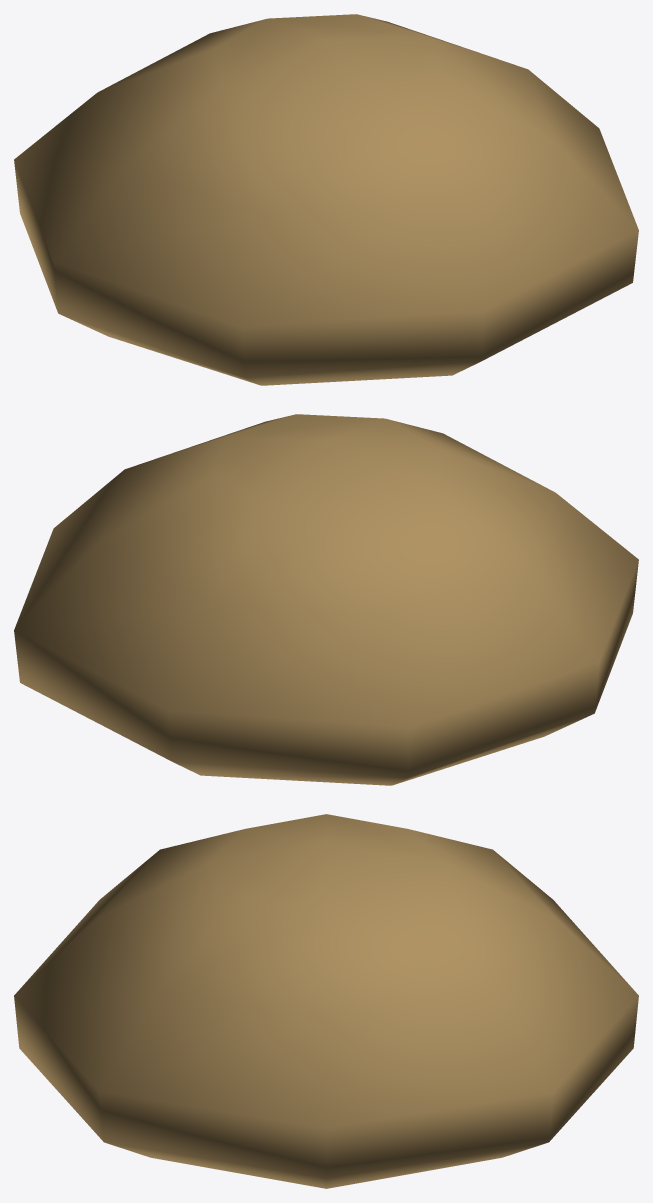
The model's file is M_Food_Bun_002.fbx.
3 renders of one model, top to bottom at view 1: azimuth 30°, elevation 25°; view 2: azimuth 150°, elevation 25°; view 3: azimuth 270°, elevation 25°, orthographic.
Visible parts, largest first — view 1: Bun_T; view 2: Bun_T; view 3: Bun_T.
Part boxes in pixels (x1=…): Bun_T: x1=14, y1=14, x2=638, y2=385; Bun_T: x1=14, y1=414, x2=638, y2=785; Bun_T: x1=14, y1=814, x2=638, y2=1188.
Bounding box in the file's own units: 59.62 × 25.74 × 59.62.
